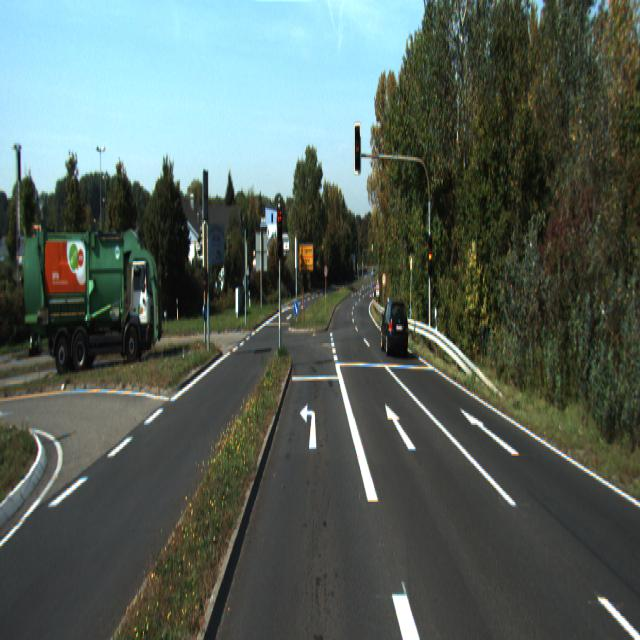Car: (19, 225, 162, 369), (380, 297, 409, 355)
